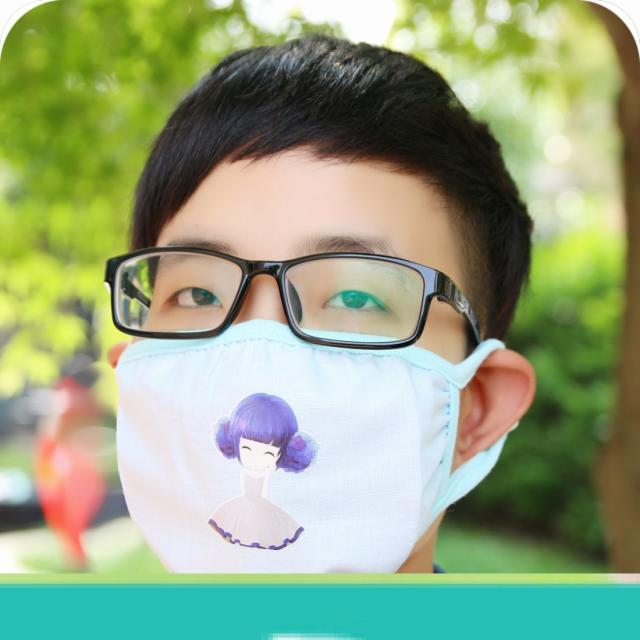mask: (127, 132, 446, 568)
